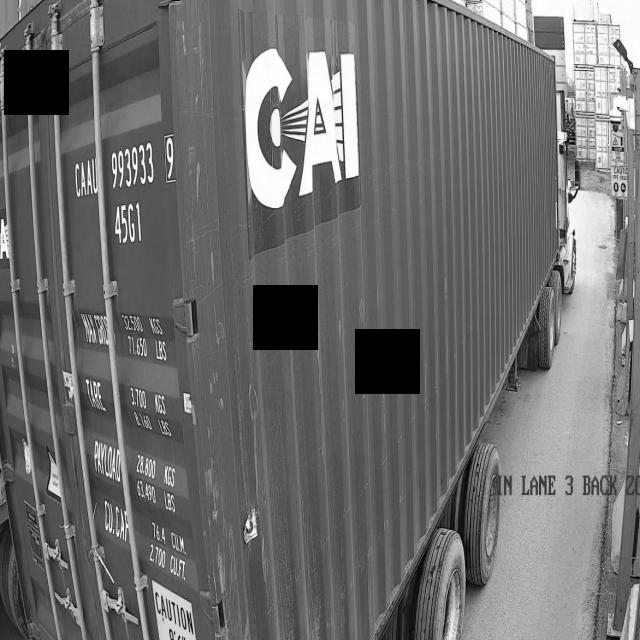container_company_logo: (232, 0, 410, 256)
container_number: (58, 117, 199, 640)
truck_with_container: (0, 0, 572, 640)
